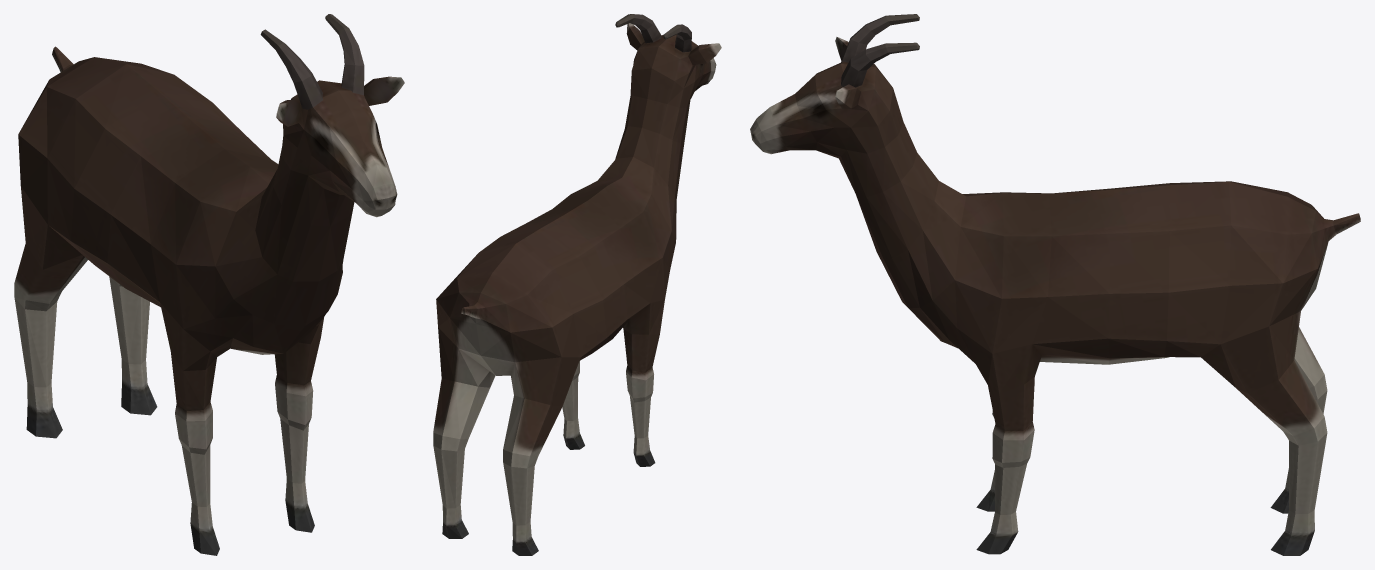
File: goat.glb
3 views of the same model, side by side, from view 1: azimuth 30°, elevation 25°; view 2: azimuth 150°, elevation 25°; view 3: azimuth 270°, elevation 25° (orthographic). The views are drawn at different scales.
Parts seen in each view (by area): view 1: Goat_mesh; view 2: Goat_mesh; view 3: Goat_mesh.
Part boxes in pixels (<box>): Goat_mesh: <box>14,14,404,555</box>; Goat_mesh: <box>433,14,721,555</box>; Goat_mesh: <box>750,14,1360,555</box>.
Size of the model in its own units: 0.3247 by 0.9499 by 1.05.
1 material, 1 textured.
